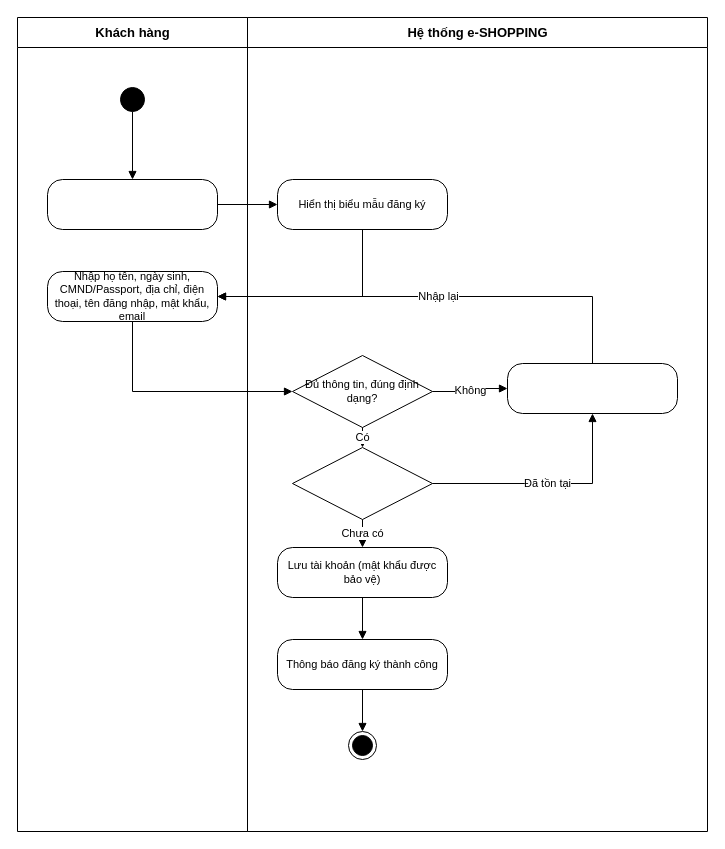
Some shapes in this 725 by 849 pixel diagram are drawn without their labels. The centre of each missing label's shape, as x and y in pixels:
Chọn Đăng ký: (x=132, y=204)
Thông báo lỗi, yêu cầu nhập lại: (x=592, y=388)
Tên đăng nhập đã tồn tại?: (x=362, y=483)
